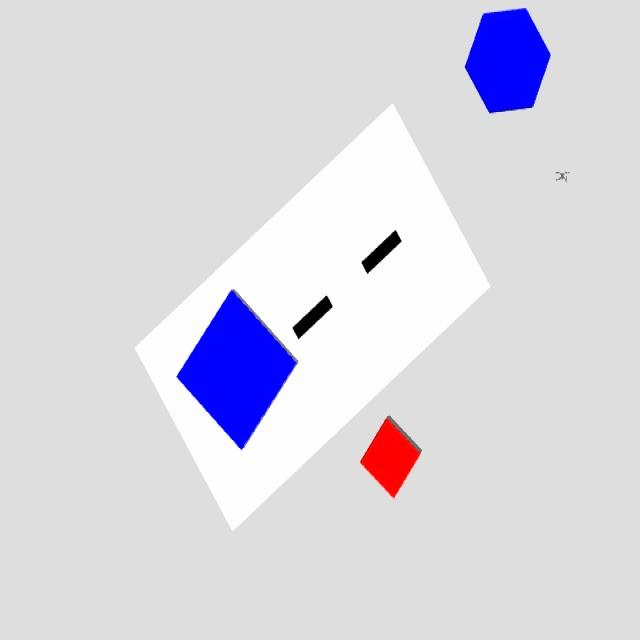blue_hexagon: (464, 8, 552, 112)
blue_square: (176, 288, 299, 451)
red_square: (360, 417, 421, 498)
